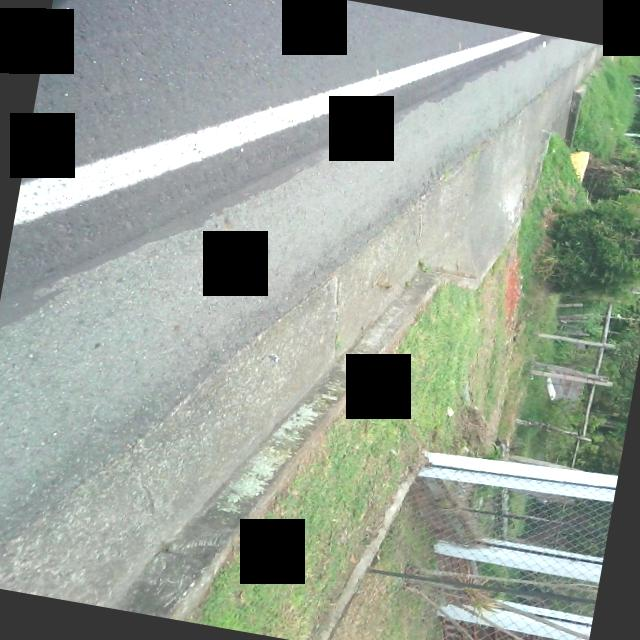DITCH: (0, 0, 640, 640), (0, 0, 611, 640)
